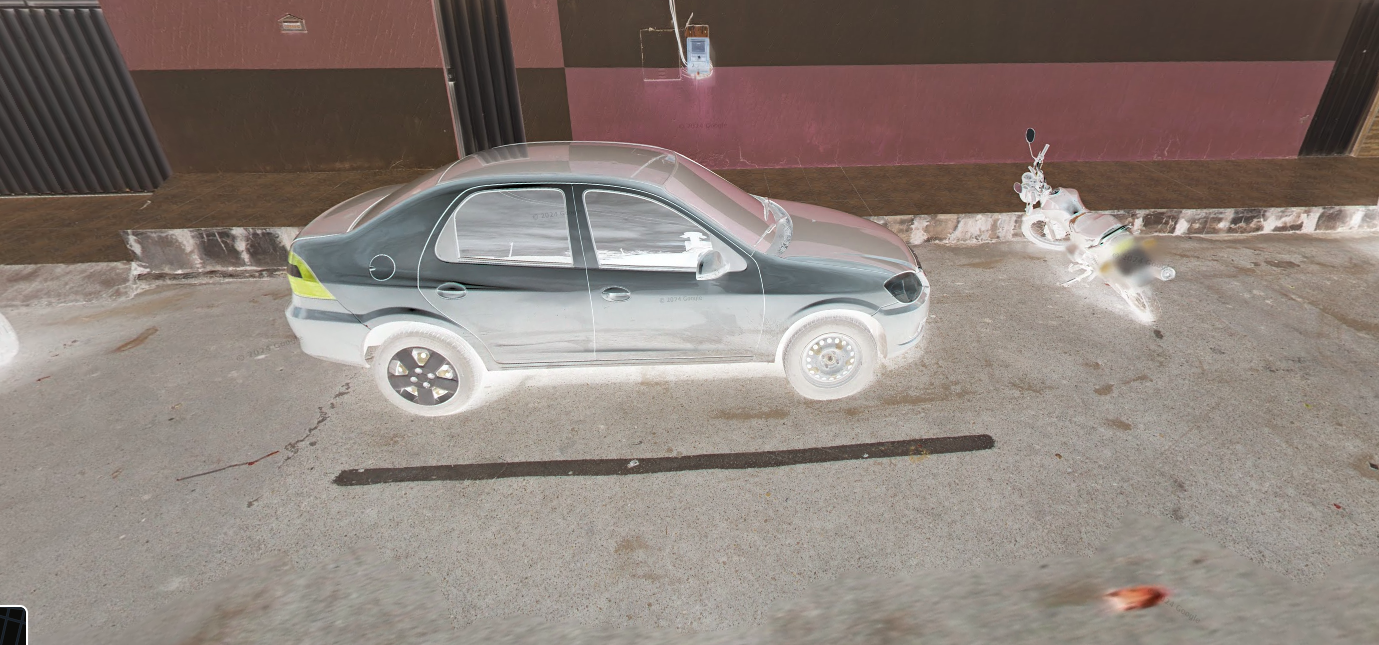car: (283, 135, 937, 421)
